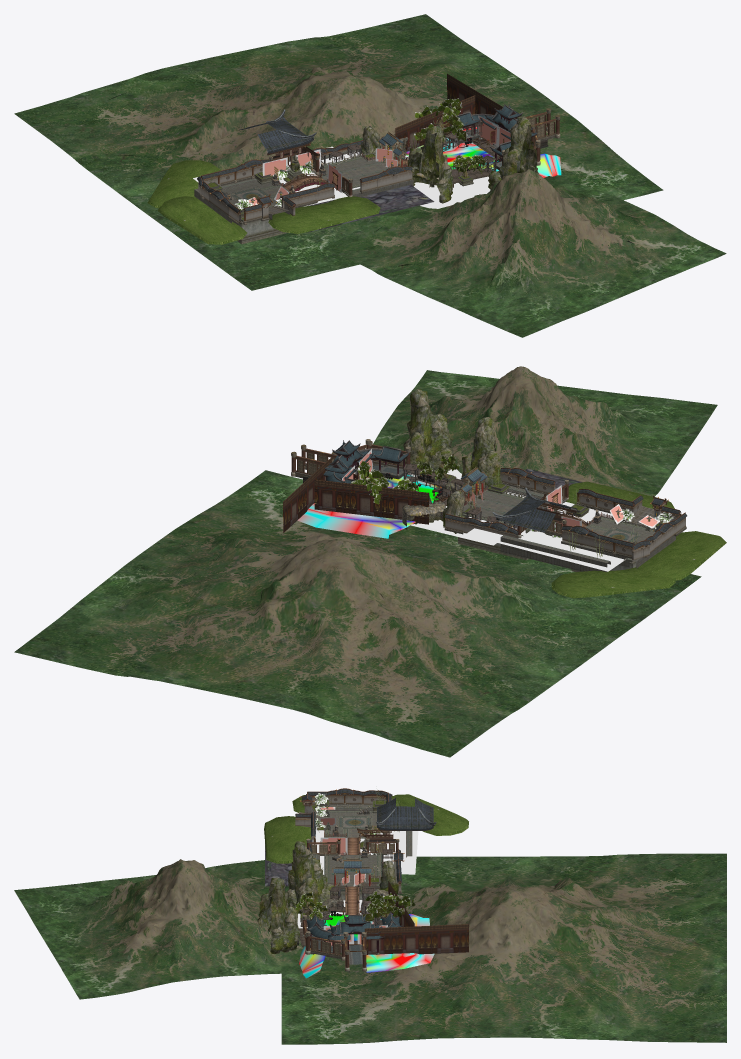
3 renders of one model, top to bottom at view 1: azimuth 30°, elevation 25°; view 2: azimuth 150°, elevation 25°; view 3: azimuth 270°, elevation 25°, orthographic. The views are drawn at different scales.
Parts seen in each view (by area): view 1: yewai_shanti01 (×2), yewai_caoping, build_yewai_shan02 (×2), build_yuanluo_weiqiang_03 (×3), water_shuimian02 (×2), build_menchuang, build_yewai_yuanluopingtai_Receive (×2), yewai_guanqia03_part03-4_Receive, build_yuanluo_weiqiang_03_Caster, veg_tree01_02_Caster, build_chitangqu_jianzhu02_Caster_BigVertex_3, build_yuanluo_weiqiang_01 (+2 smaller); view 2: yewai_shanti01 (×2), yewai_caoping, build_menchuang, build_yewai_shan02 (×2), build_yuanluo_weiqiang_03 (×2), build_yewai_yuanluopingtai_Receive (×2), yewai_guanqia03_part03-4_Receive, 14-Default, build_chitangqu_jianzhu02_Caster_BigVertex_3, water_shuimian02, build_yuanluo_weiqiang_03_Caster, veg_tree01_02_Caster (+4 smaller); view 3: yewai_shanti01 (×2), build_yewai_shan02 (×2), build_menchuang, yewai_caoping, build_yewai_yuanluopingtai_Receive (×2), yewai_guanqia03_part03-4_Receive, build_yuanluo_weiqiang_03_Caster, build_chitangqu_jianzhu02_Caster_BigVertex_3, water_shuimian02 (×2), build_yuanluo_weiqiang_06 (×2), build_yuanluo_weiqiang_03, veg_tree01_02_Caster (+4 smaller).
Part boxes in pixels (x1,y1,x2,y2): yewai_shanti01 (×2): (14,14,726,337); yewai_caoping: (147,160,380,244); build_yewai_shan02 (×2): (407,117,539,203); build_yuanluo_weiqiang_03 (×3): (197,141,412,224); water_shuimian02 (×2): (307,155,490,232); build_menchuang: (395,73,502,151); build_yewai_yuanluopingtai_Receive (×2): (221,154,388,207); yewai_guanqia03_part03-4_Receive: (406,126,561,177); build_yuanluo_weiqiang_03_Caster: (238,116,313,168); veg_tree01_02_Caster: (414,98,467,141); build_chitangqu_jianzhu02_Caster_BigVertex_3: (480,104,537,165); build_yuanluo_weiqiang_01: (199,159,299,215); yewai_shanti01 (×2): (14,366,717,757); yewai_caoping: (551,481,726,598); build_menchuang: (283,456,429,532); build_yewai_shan02 (×2): (403,389,502,495); build_yuanluo_weiqiang_03 (×2): (444,468,687,561); build_yewai_yuanluopingtai_Receive (×2): (458,490,655,560); yewai_guanqia03_part03-4_Receive: (297,474,441,538); 14-Default: (500,535,610,571); build_chitangqu_jianzhu02_Caster_BigVertex_3: (323,440,410,480); water_shuimian02: (465,502,625,571); build_yuanluo_weiqiang_03_Caster: (496,495,577,536); veg_tree01_02_Caster: (351,460,418,504); yewai_shanti01 (×2): (14,853,726,1044); build_yewai_shan02 (×2): (257,841,335,953); build_menchuang: (364,881,469,954); yewai_caoping: (264,794,468,863); build_yewai_yuanluopingtai_Receive (×2): (324,811,382,900); yewai_guanqia03_part03-4_Receive: (299,913,434,978); build_yuanluo_weiqiang_03_Caster: (377,798,433,830); build_chitangqu_jianzhu02_Caster_BigVertex_3: (306,914,384,954); water_shuimian02 (×2): (265,816,418,886); build_yuanluo_weiqiang_06 (×2): (306,808,436,960); build_yuanluo_weiqiang_03: (295,789,392,827); veg_tree01_02_Caster: (362,891,415,921).
Size of what is drawn, in the model's own units: 129 by 30.27 by 189.
